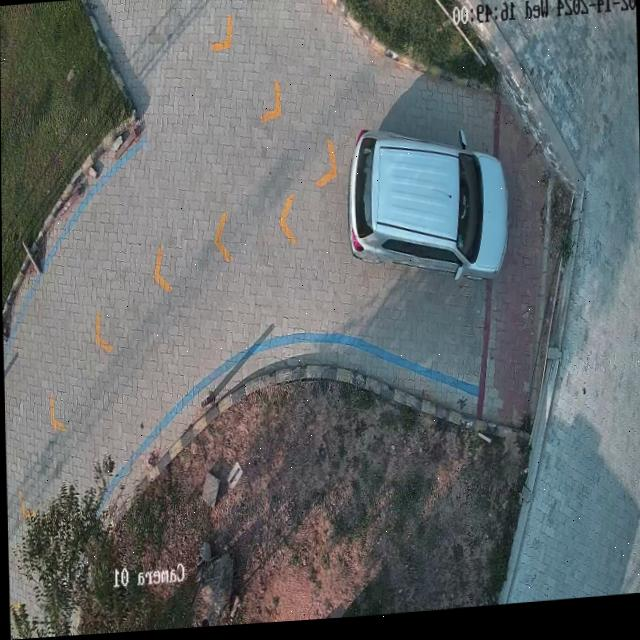car: (347, 134, 508, 287)
